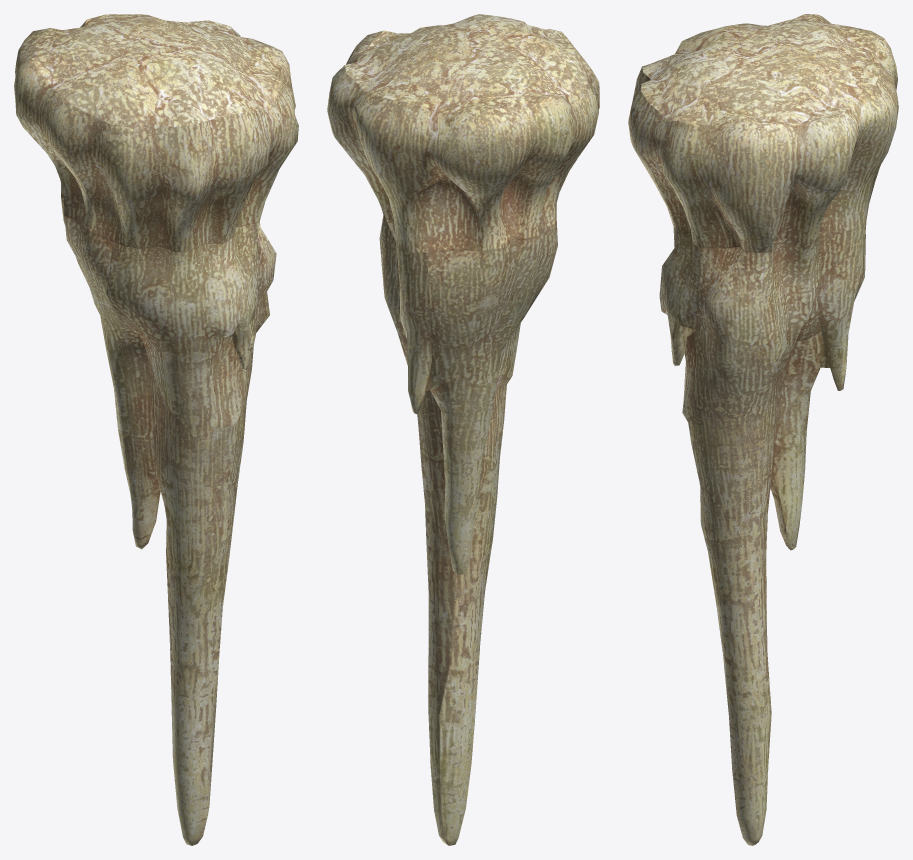
File: cave_stalactites_quality01.dae
3 views of the same model, side by side, from view 1: azimuth 30°, elevation 25°; view 2: azimuth 150°, elevation 25°; view 3: azimuth 270°, elevation 25° (orthographic). The views are drawn at different scales.
Visible parts, largest first — view 1: cave_stalactites_quality01_cave_stalactites_quality01_; view 2: cave_stalactites_quality01_cave_stalactites_quality01_; view 3: cave_stalactites_quality01_cave_stalactites_quality01_.
Boxes of the visible parts, box(x1,y1,x2,y2) form: cave_stalactites_quality01_cave_stalactites_quality01_: box(14, 14, 298, 845); cave_stalactites_quality01_cave_stalactites_quality01_: box(327, 14, 599, 845); cave_stalactites_quality01_cave_stalactites_quality01_: box(628, 14, 898, 845).
Bounding box in the file's own units: 36.91 × 117 × 36.68.
